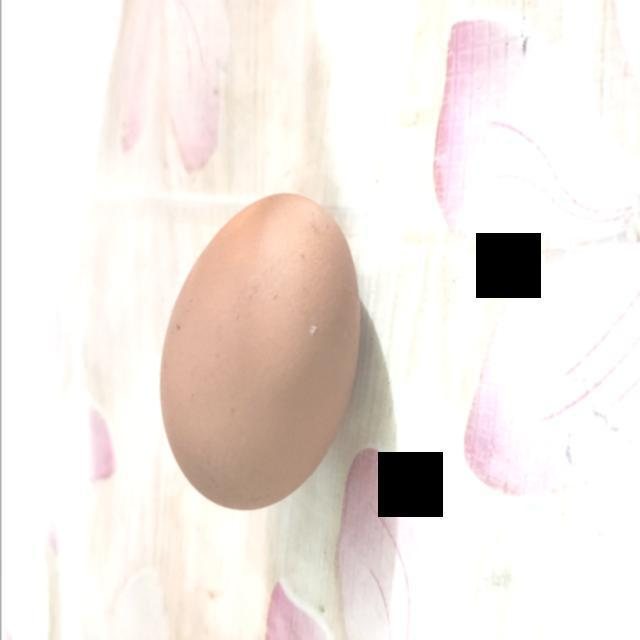egg: (154, 186, 364, 518)
